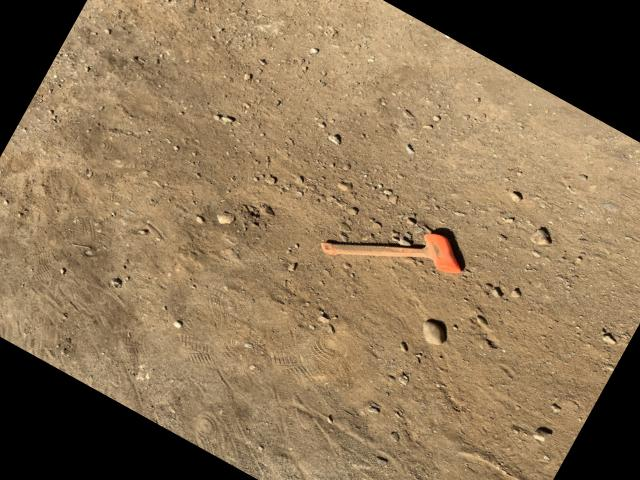hammer: (318, 183, 474, 316)
